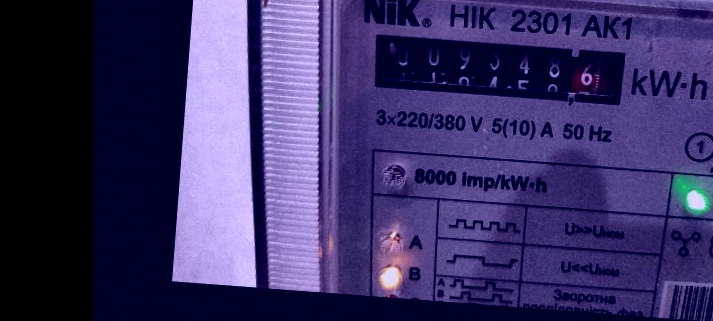0: (425, 42, 442, 66), (395, 40, 410, 67)
3: (486, 46, 502, 73)
4: (516, 48, 532, 76)
6: (577, 60, 596, 88)
8: (546, 51, 563, 80)
9: (455, 44, 472, 72)
screen: (362, 26, 635, 115)
